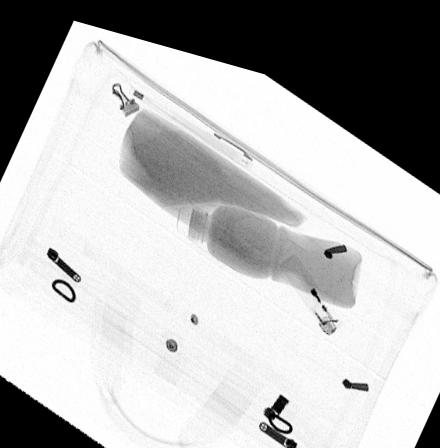Lighter: (278, 238, 343, 317)
